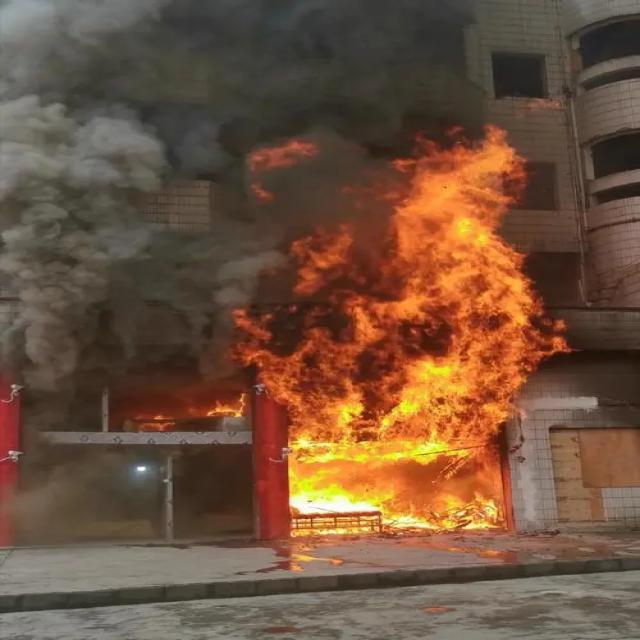Fire: (382, 127, 522, 319), (298, 440, 455, 466), (290, 468, 382, 512), (393, 514, 441, 529)
Smoke: (5, 200, 150, 380), (4, 94, 170, 199), (194, 58, 458, 124), (7, 3, 162, 91), (140, 250, 288, 310)
